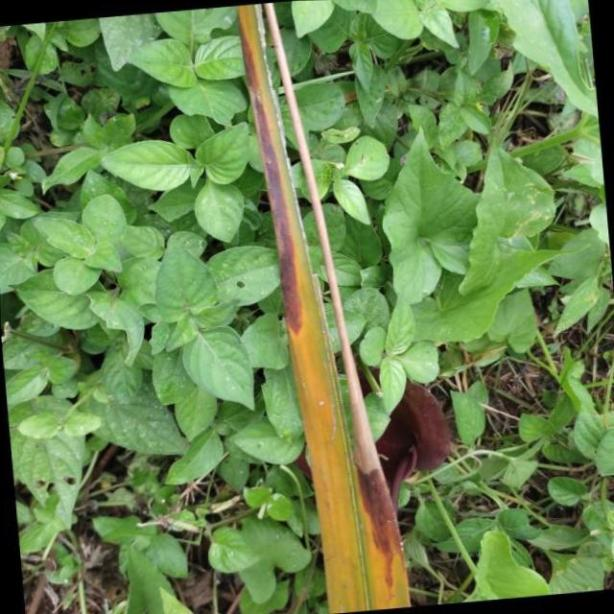Megnesium: (238, 0, 416, 609)
